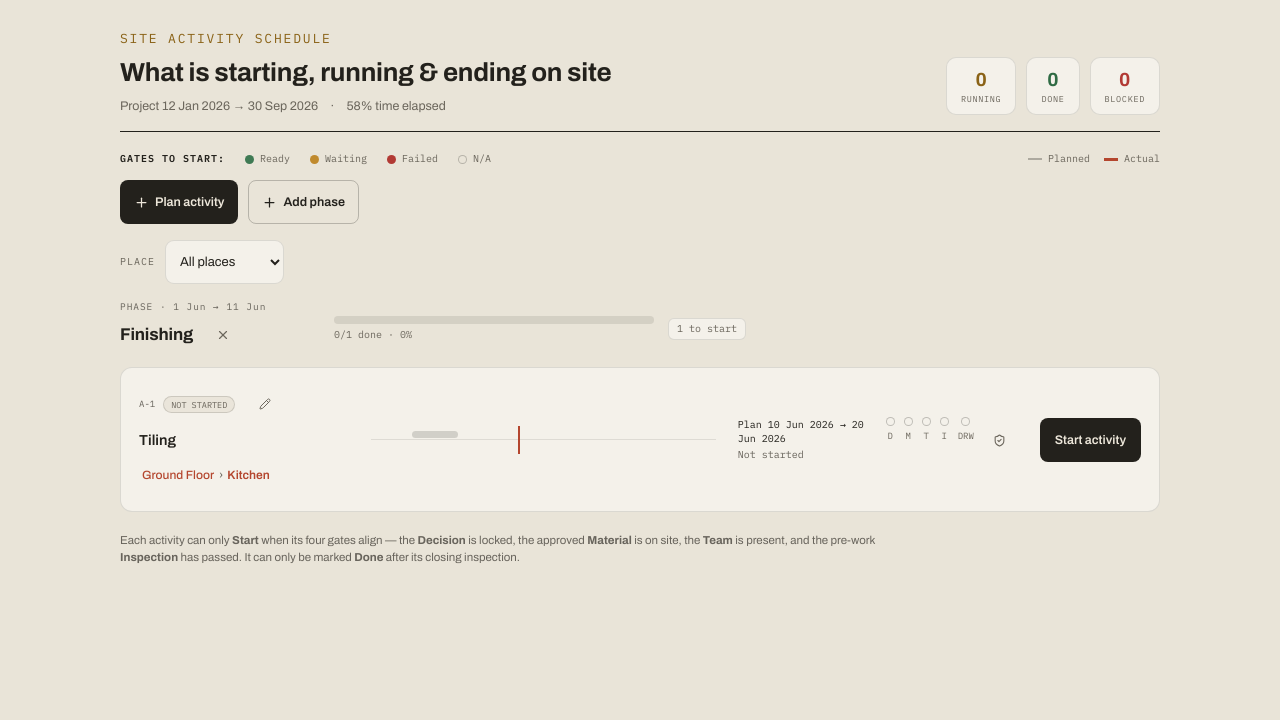
Test: #699 Codex round 1 › the activity delete states the server rule: anything referring to it blocks the delete (4174074850, 4175348825)
The width and height of the screenshot is (1280, 720).
Click the button with test id "edit-A-1" at (265, 404), box [243,382,287,426]
(page scrolled)
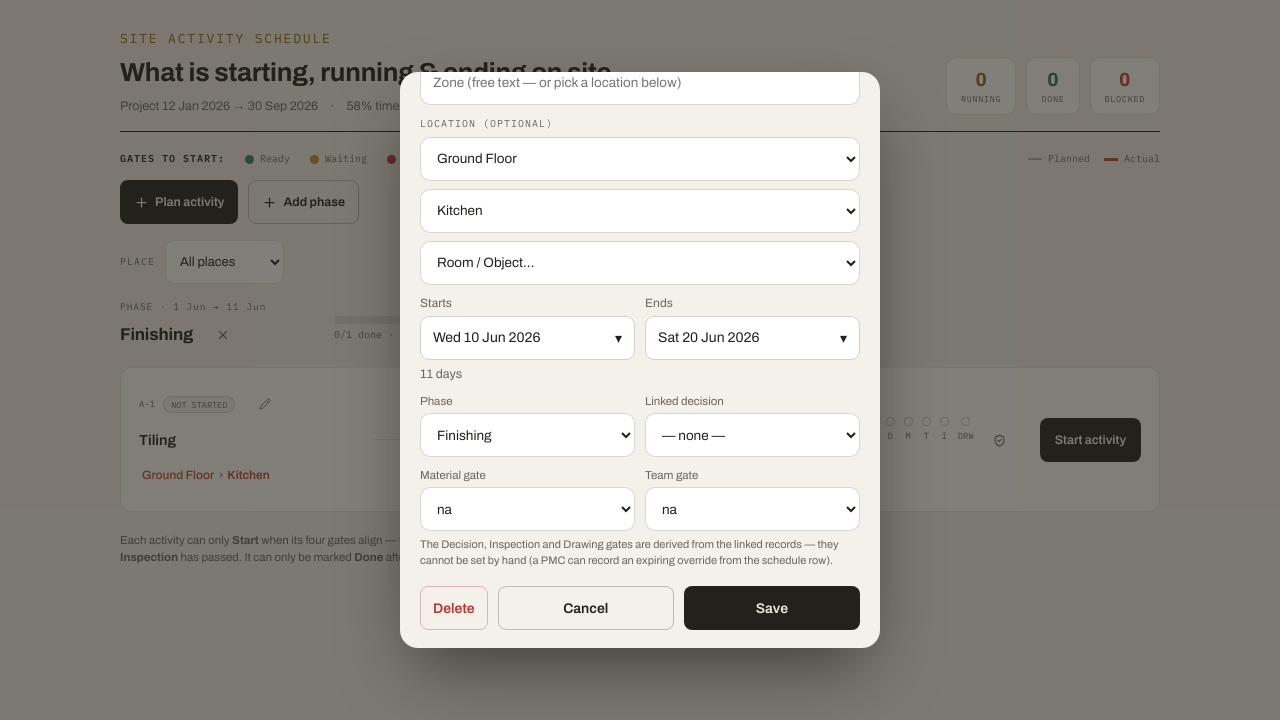
Click the button with test id "activity-delete" at (454, 608), box [420,586,488,630]
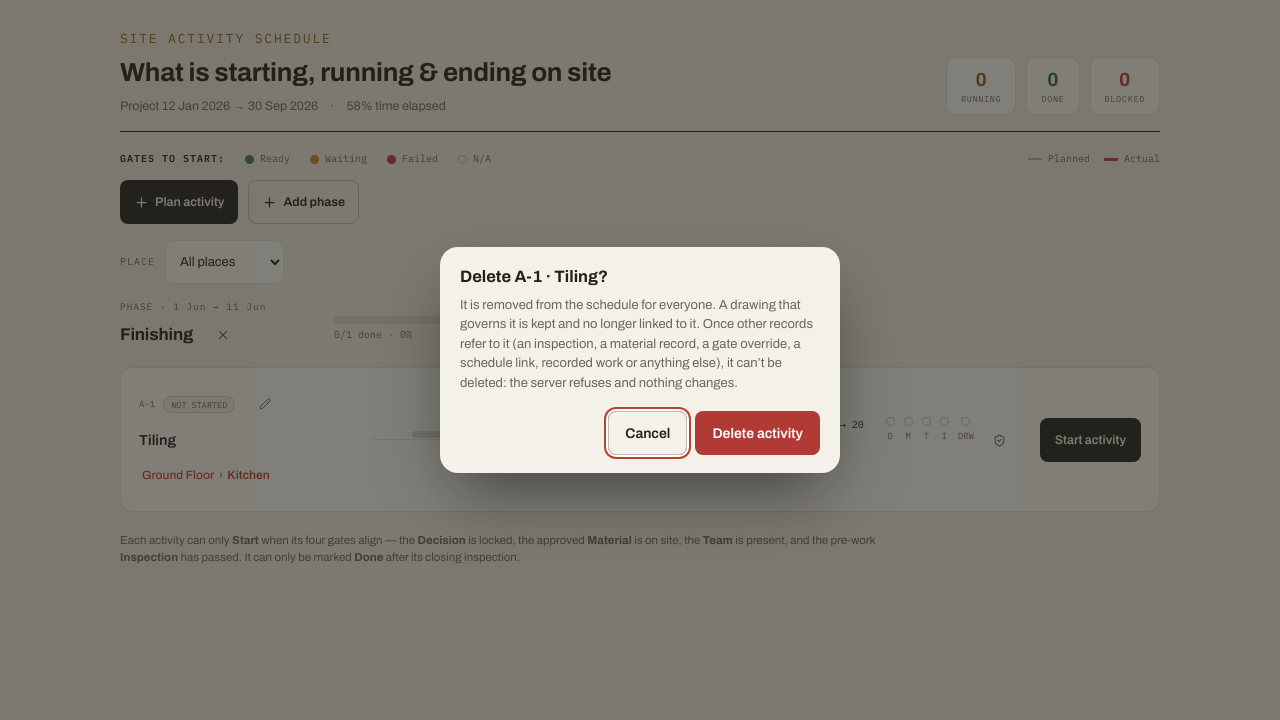
Check: the element with test id "confirm-activity-delete" shows "a schedule link, recorded work or anything else", box [460,298,813,390]
